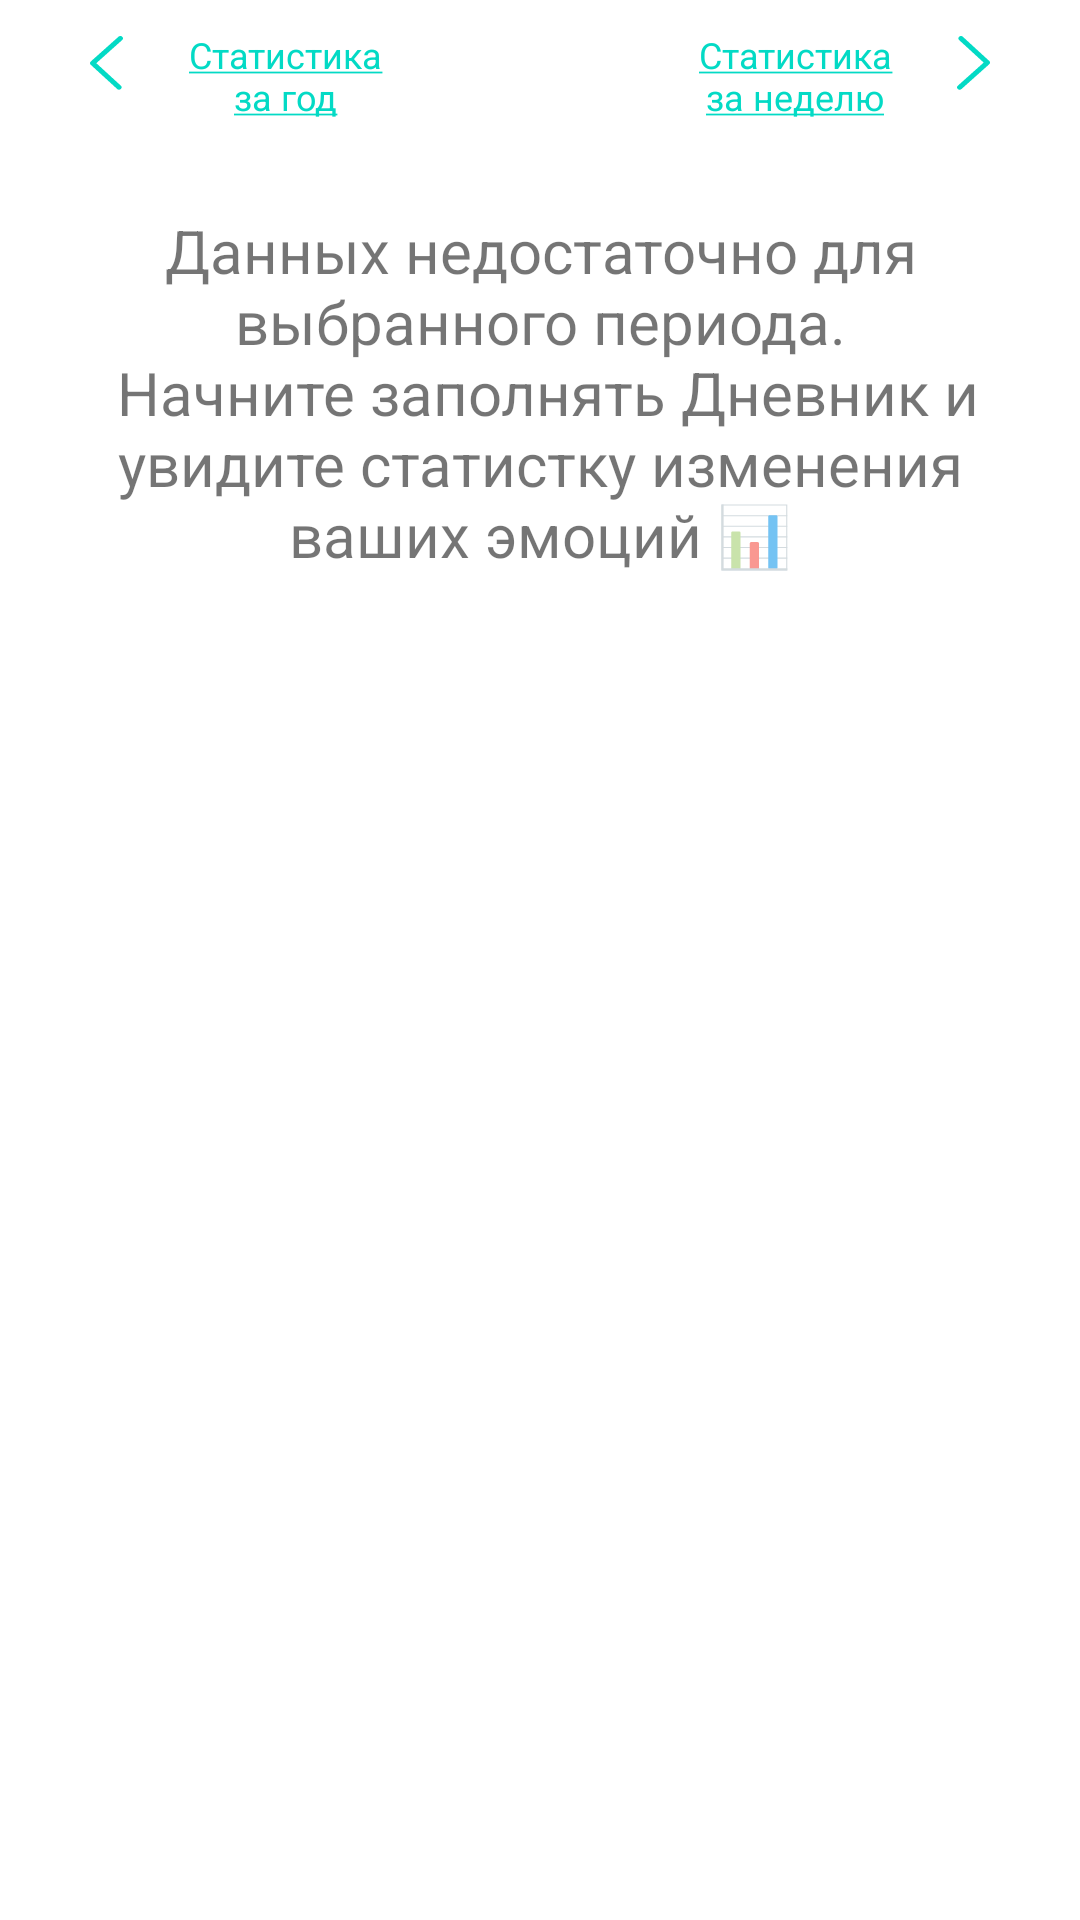

Screen size 1080w x 1920h. Icon name, then its center in pixels as point (x, y):
left: point (106, 63)
rigth: point (973, 63)
